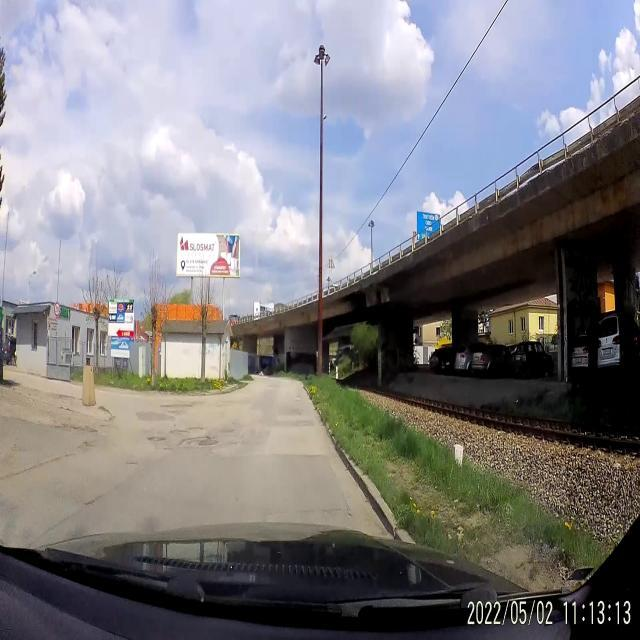Pothole: (172, 425, 220, 457), (144, 428, 174, 462), (98, 397, 117, 425), (75, 434, 98, 454), (159, 402, 197, 411), (54, 403, 80, 415), (125, 459, 141, 467)
